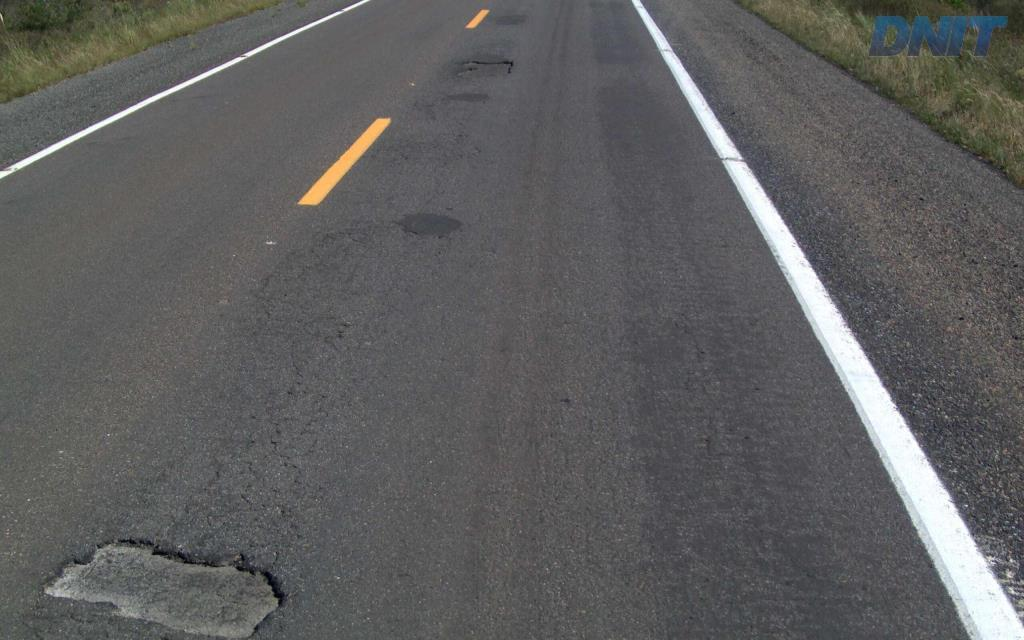pothole: (32, 523, 282, 638), (452, 54, 517, 85)
